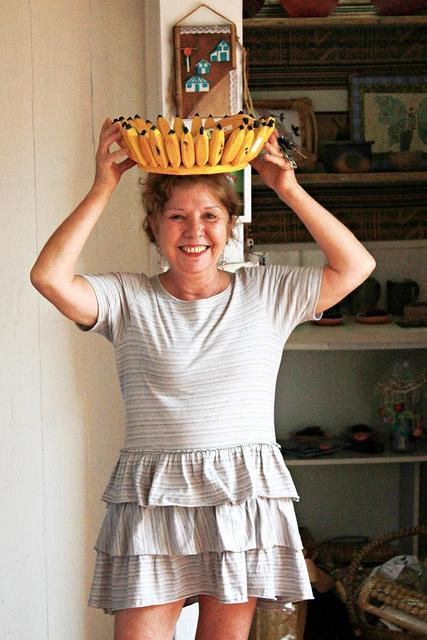banana: (191, 116, 249, 147), (239, 122, 266, 164), (220, 125, 245, 166), (231, 125, 254, 167), (126, 124, 148, 166), (121, 121, 142, 165), (148, 125, 169, 168), (113, 118, 134, 161), (140, 130, 159, 168), (208, 124, 225, 166), (165, 130, 182, 168), (195, 126, 209, 168), (181, 126, 195, 168), (156, 115, 171, 139), (134, 114, 150, 132), (126, 116, 142, 134), (174, 115, 186, 139), (192, 113, 202, 132), (253, 116, 266, 130), (267, 119, 275, 134), (146, 120, 154, 128)
